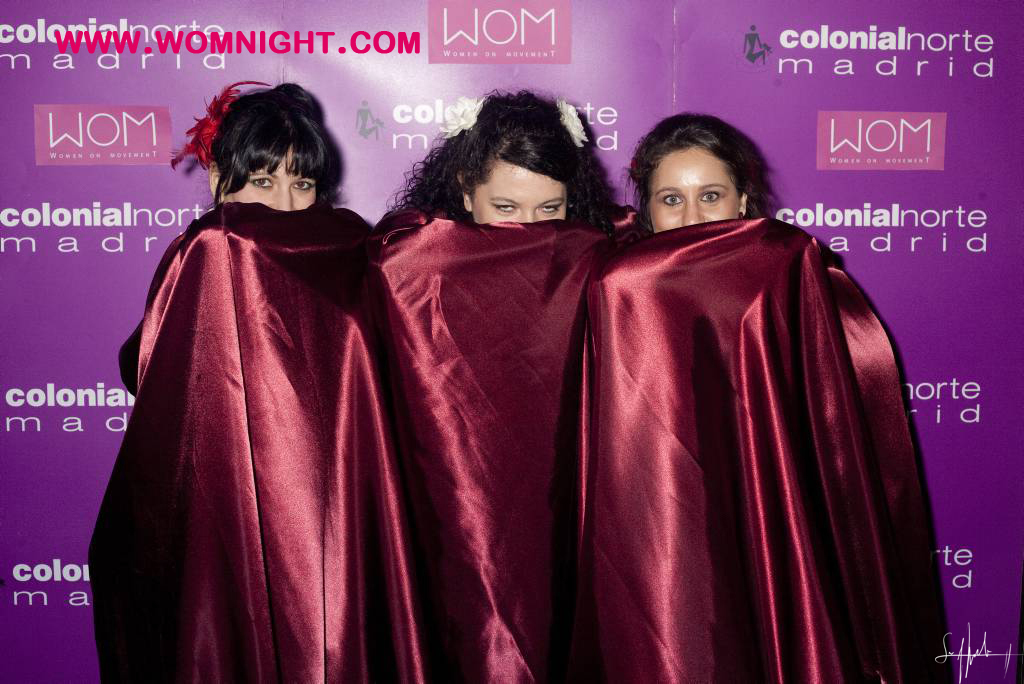face: (224, 136, 320, 236)
